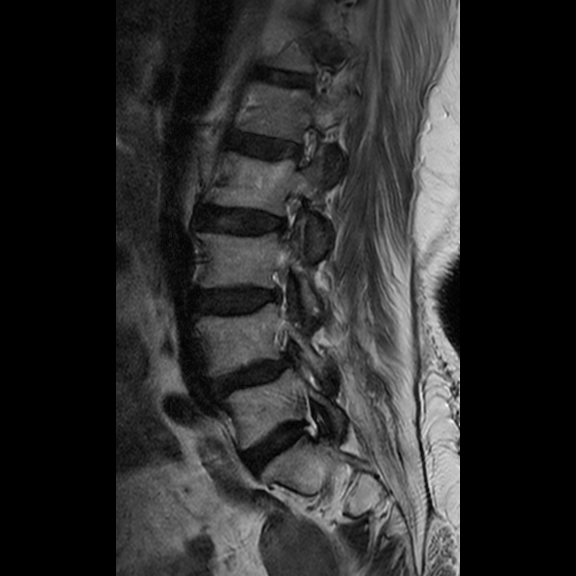RFS0: (282, 117, 328, 178), (267, 186, 306, 248)
